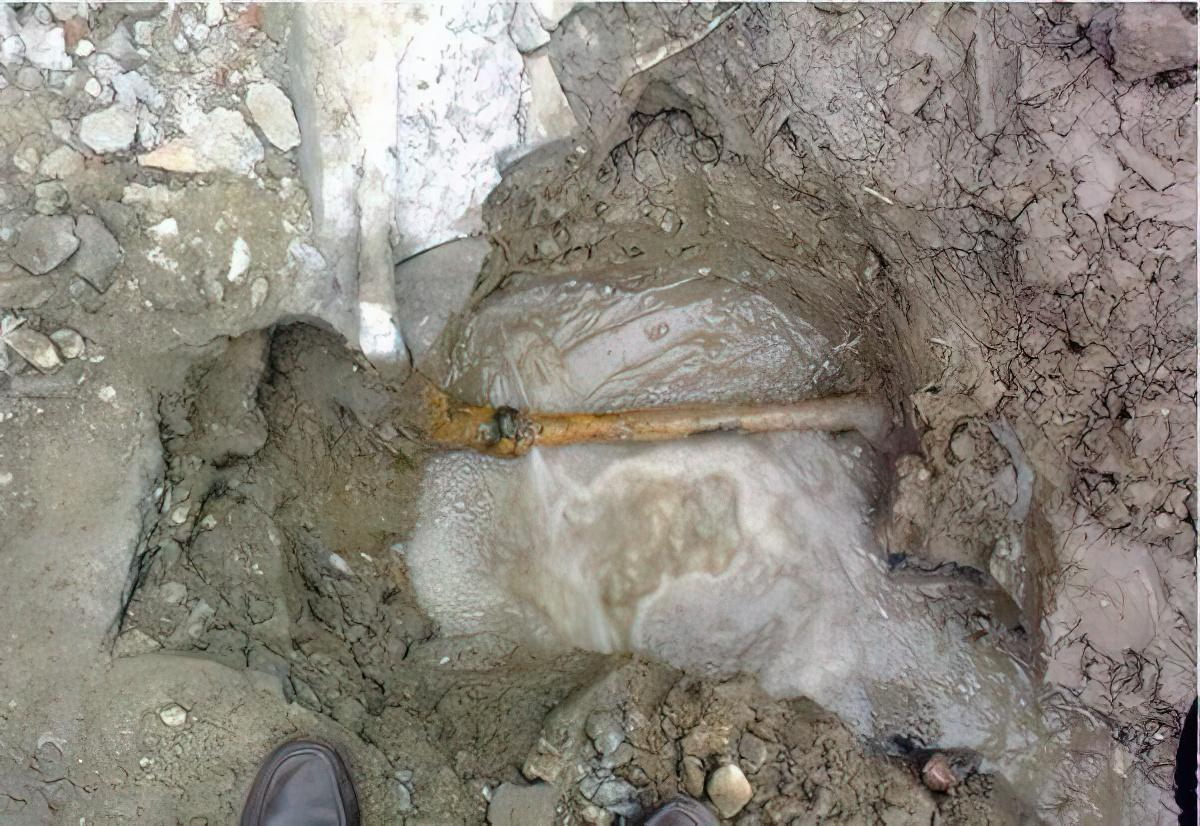pipe burst: (522, 433, 556, 509)
water accumulation: (404, 444, 1200, 826), (434, 261, 840, 416)
